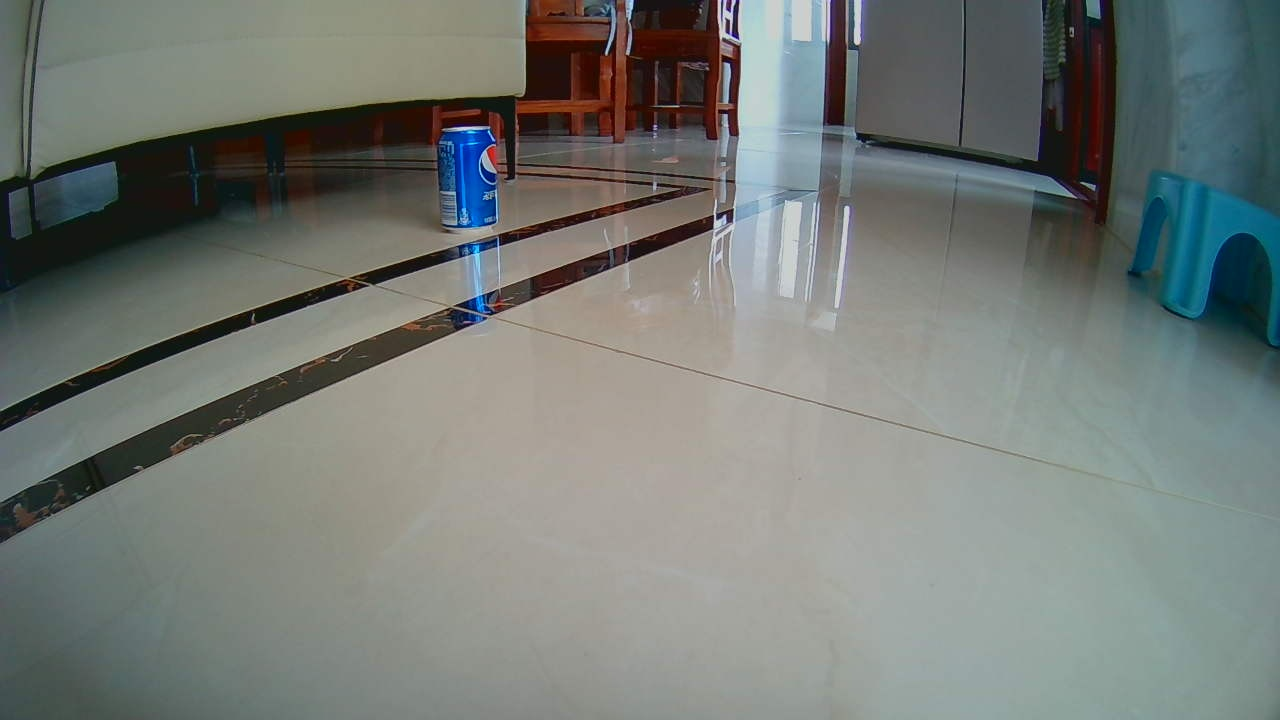pessi: (437, 124, 497, 232)
